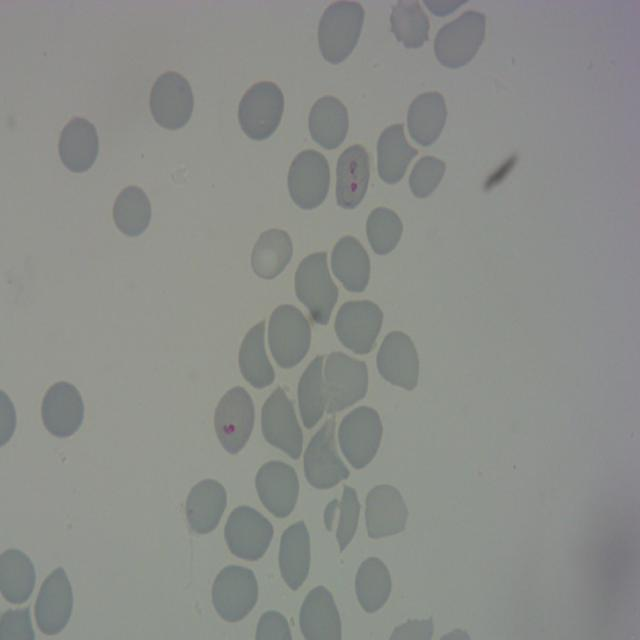leukocyte: (293, 249, 340, 323), (260, 386, 305, 463), (432, 7, 486, 70), (266, 300, 313, 372), (235, 78, 285, 144), (221, 502, 274, 564), (208, 562, 260, 625), (332, 296, 386, 356), (337, 404, 386, 470), (319, 348, 369, 412), (253, 456, 301, 521), (285, 147, 333, 212), (318, 1, 365, 67), (33, 565, 76, 637), (374, 328, 422, 392), (376, 120, 421, 188), (236, 319, 277, 393), (38, 378, 86, 441), (304, 423, 350, 488), (183, 475, 229, 538), (328, 232, 373, 296), (404, 87, 450, 149), (56, 114, 102, 175), (275, 519, 314, 590), (148, 71, 194, 131), (306, 92, 351, 152), (352, 552, 394, 616), (364, 483, 408, 540), (298, 352, 330, 429), (402, 150, 448, 202), (363, 203, 405, 258), (110, 183, 151, 235), (389, 0, 429, 50), (252, 228, 292, 274), (333, 484, 360, 552)
red blood cell: (214, 385, 254, 454), (332, 142, 371, 212)
